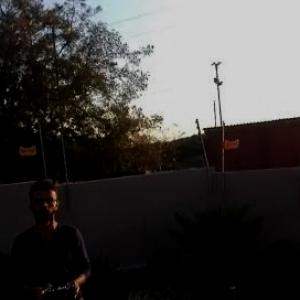follow: (4, 173, 95, 299)
